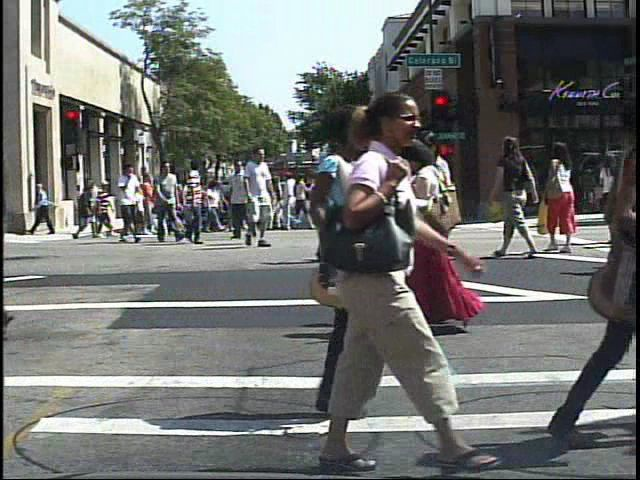person: (264, 85, 467, 480), (411, 133, 481, 338), (428, 127, 488, 340), (321, 135, 376, 268), (494, 134, 543, 262), (540, 138, 583, 259), (237, 145, 271, 252), (600, 145, 632, 249), (174, 156, 208, 247), (151, 157, 184, 246), (113, 160, 143, 244), (91, 177, 116, 241), (77, 182, 97, 231), (382, 143, 383, 264)
